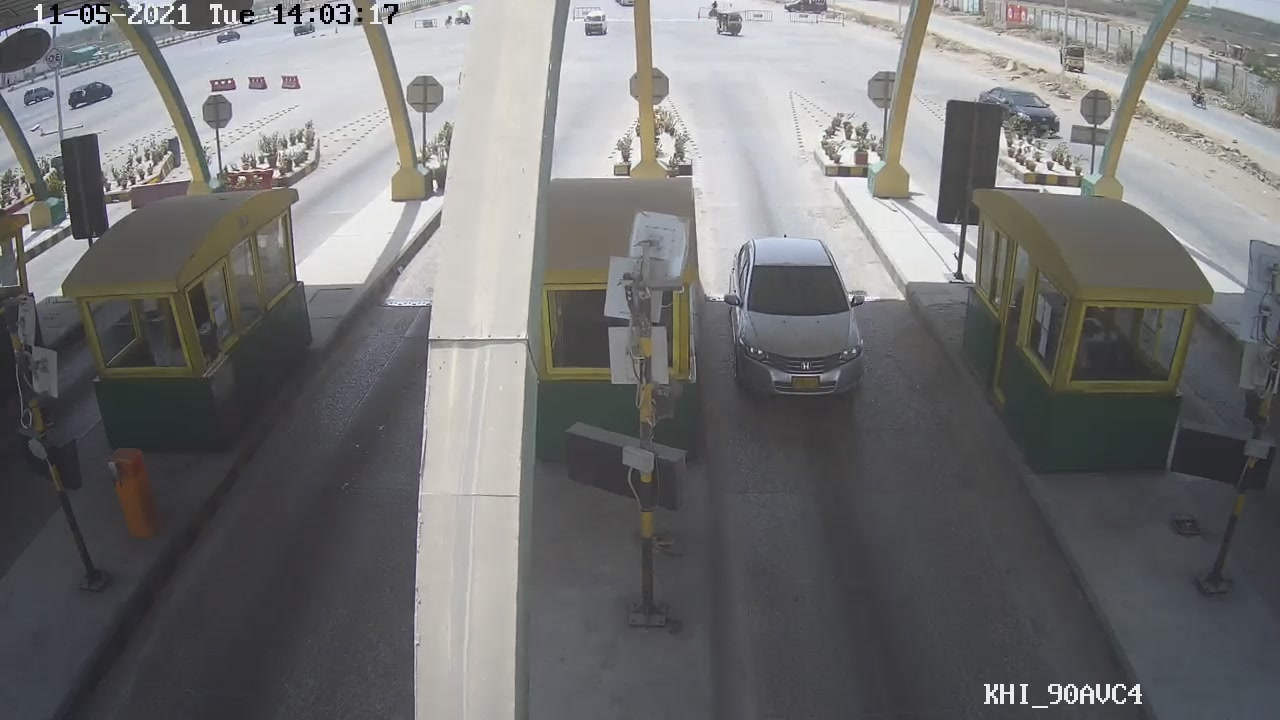F1: (726, 225, 868, 403)
